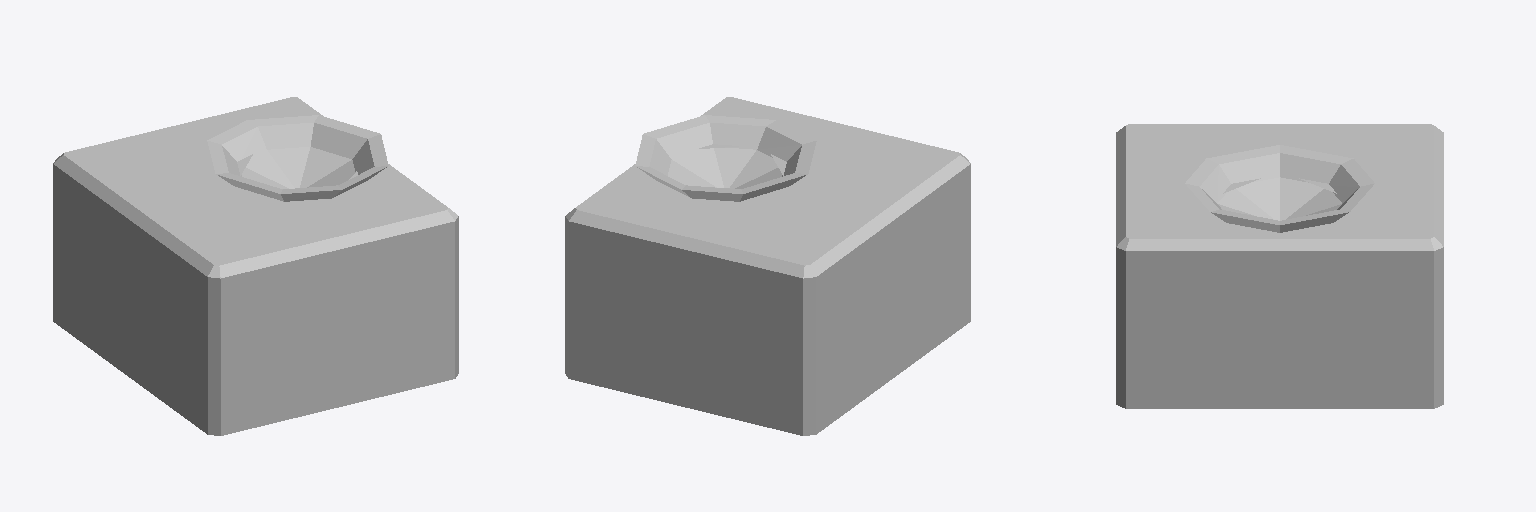
Rendered from shrine.obj.
The picture shows the model from 3 angles: view 1: azimuth 30°, elevation 25°; view 2: azimuth 150°, elevation 25°; view 3: azimuth 270°, elevation 25°; orthographic projection.
Parts seen in each view (by area): view 1: Cube; view 2: Cube; view 3: Cube.
Part boxes in pixels (left/top/right/bottom): Cube: left=53, top=97, right=458, bottom=435; Cube: left=565, top=97, right=970, bottom=435; Cube: left=1116, top=124, right=1443, bottom=408.
Bounding box in the file's own units: 1.52 × 1.06 × 1.72.